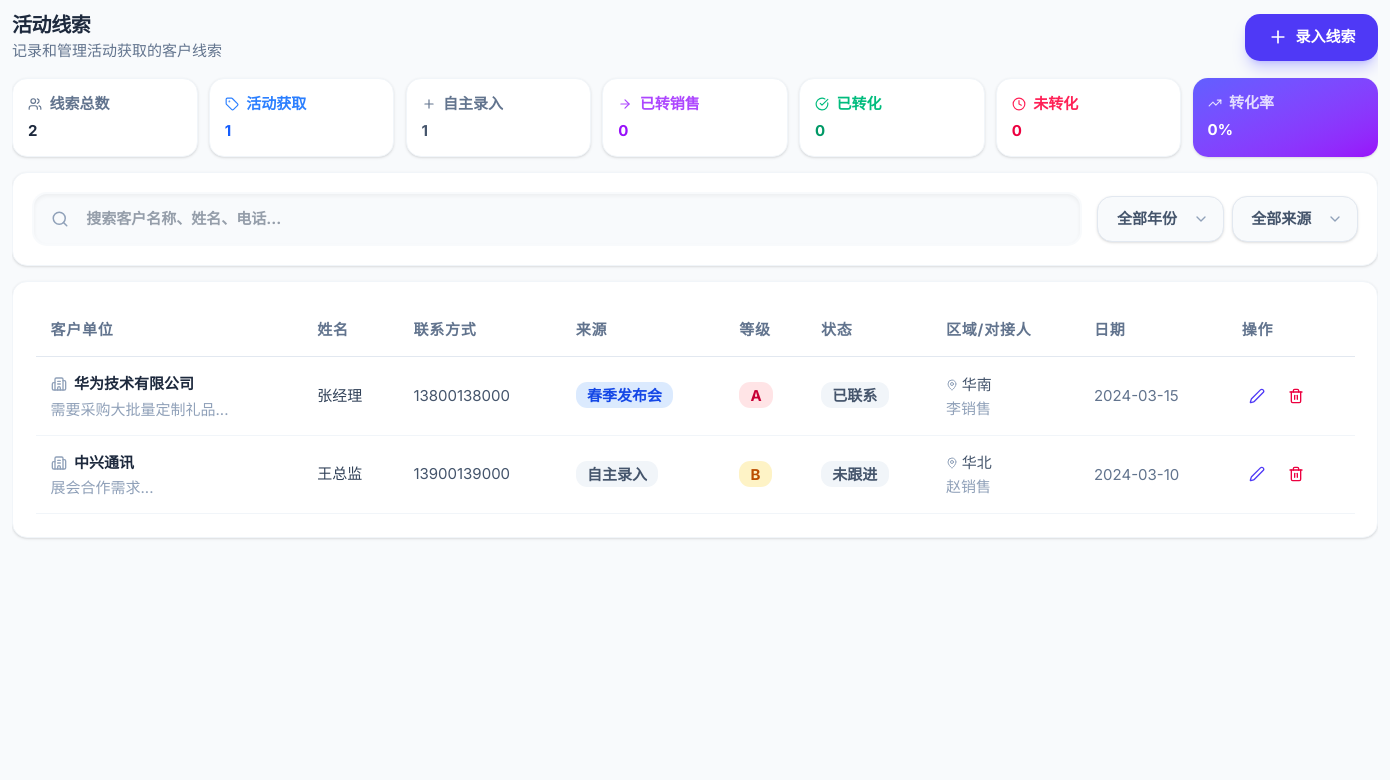
商机管理页面交互测试 › 边界情况测试 › 空搜索结果应显示空状态
Step 1. Type "不存在的客户" into the field with placeholder "搜索客户名称、姓名、电话..." → (557, 219), box x1=32 y1=192 x2=1082 y2=246
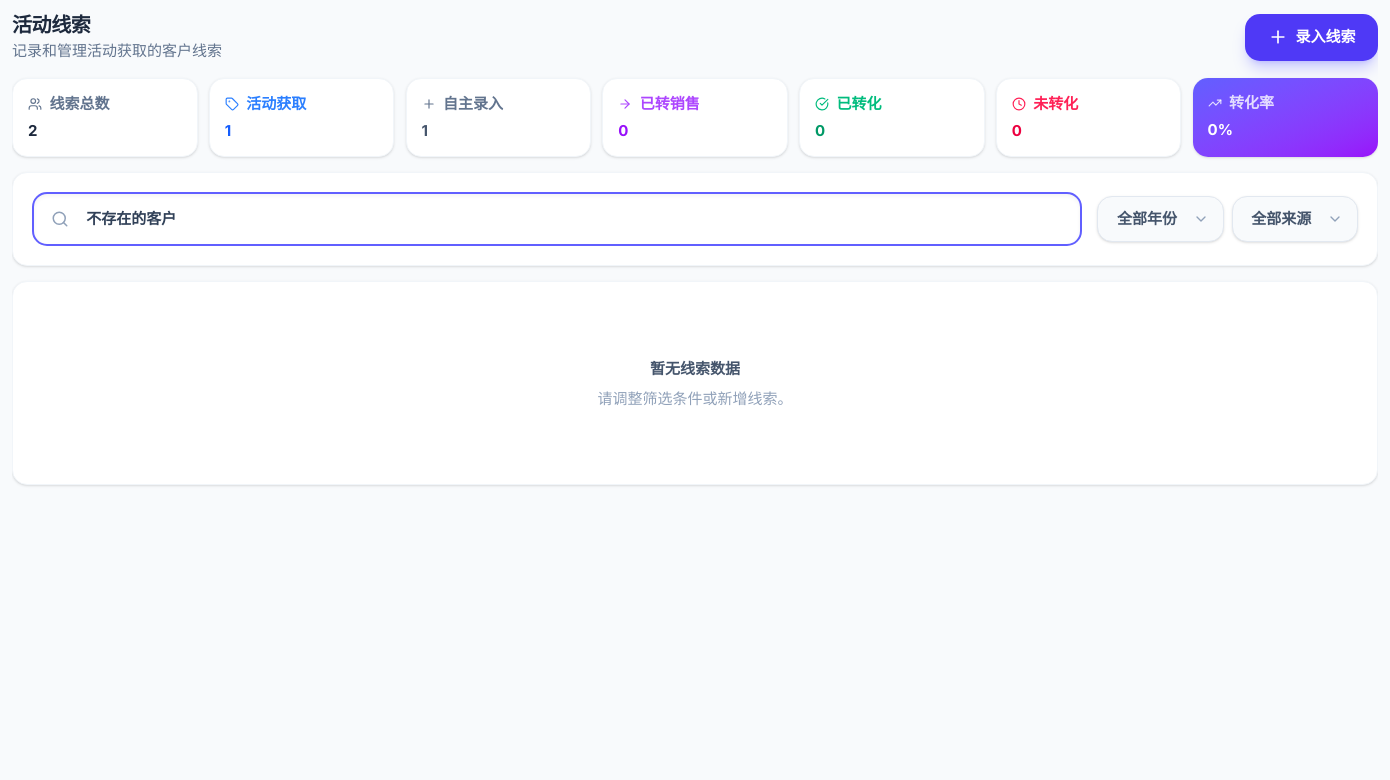
Check: the text "华为技术有限公司" is gone
